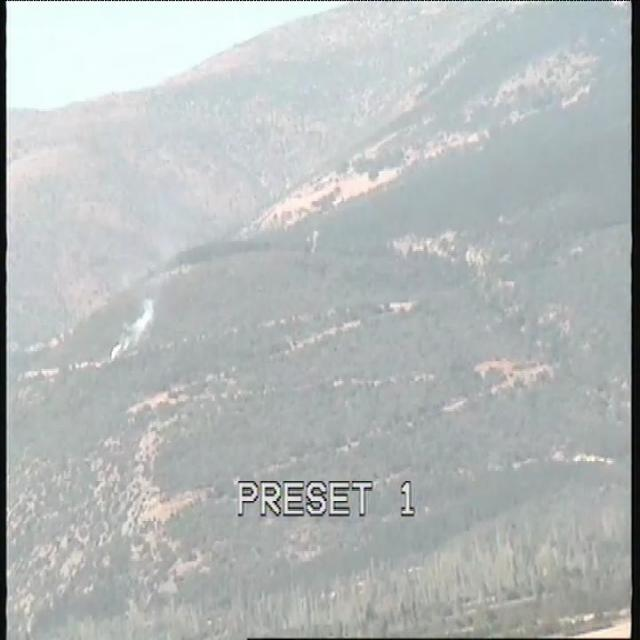smoke: (108, 290, 160, 364)
